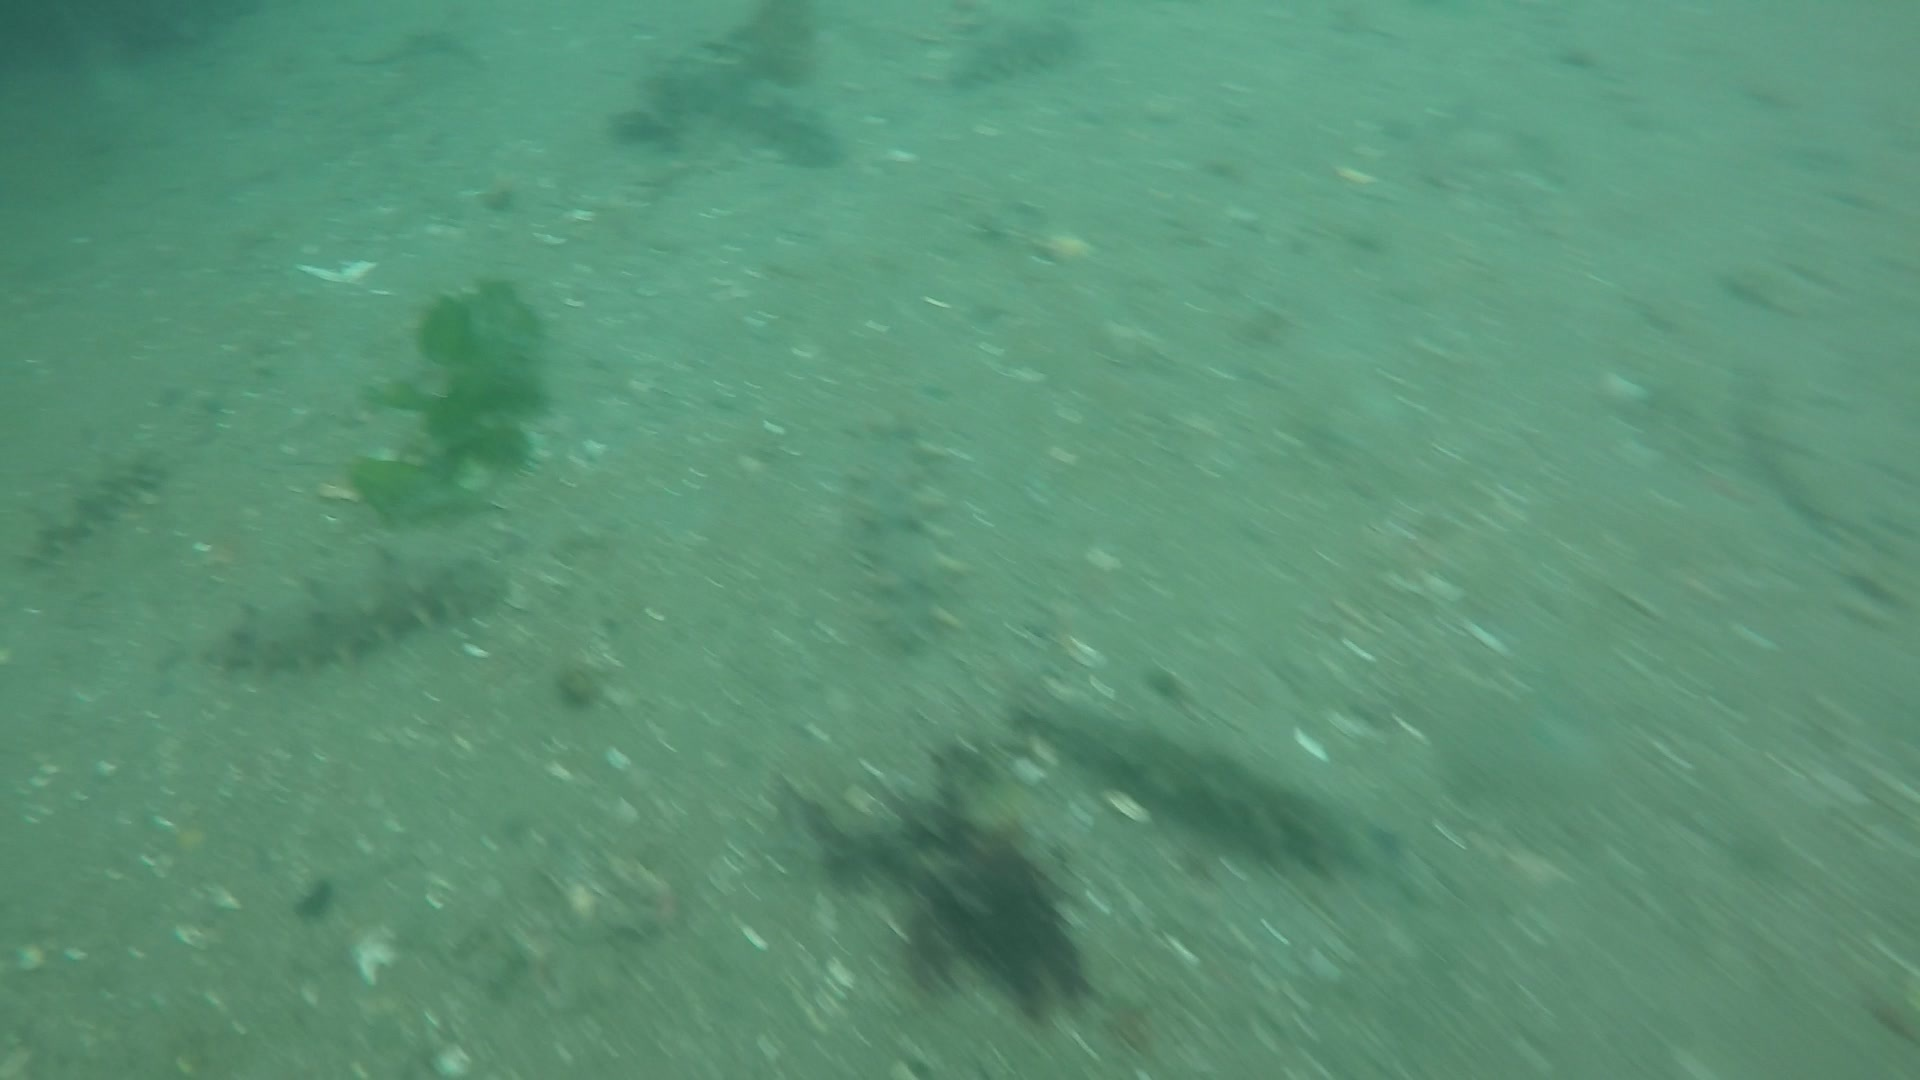holothurian: (1011, 667, 1408, 886), (202, 520, 512, 684), (839, 415, 971, 659), (11, 433, 171, 571), (669, 47, 841, 167), (924, 7, 1092, 98)
